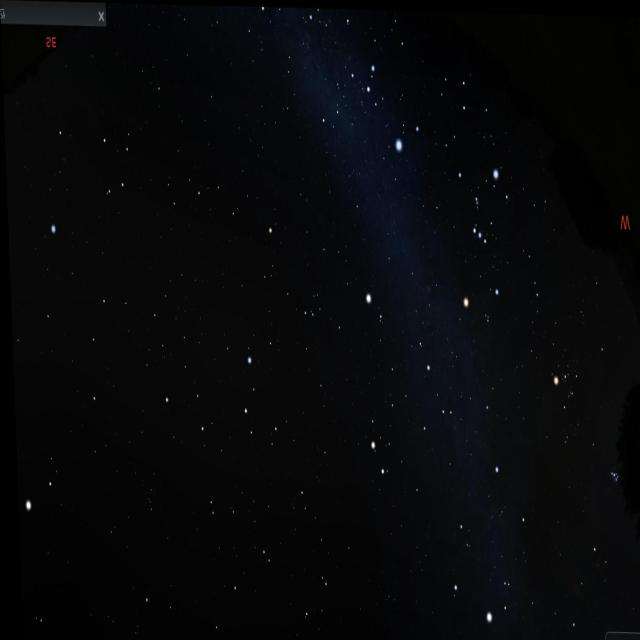canis_major: (350, 48, 432, 164)
canis_minor: (356, 270, 392, 330)
gemini: (365, 321, 471, 473)
leo: (166, 330, 284, 460)
orion: (449, 153, 512, 304)
pleiades: (604, 460, 618, 482)
taurus: (534, 342, 628, 492)
